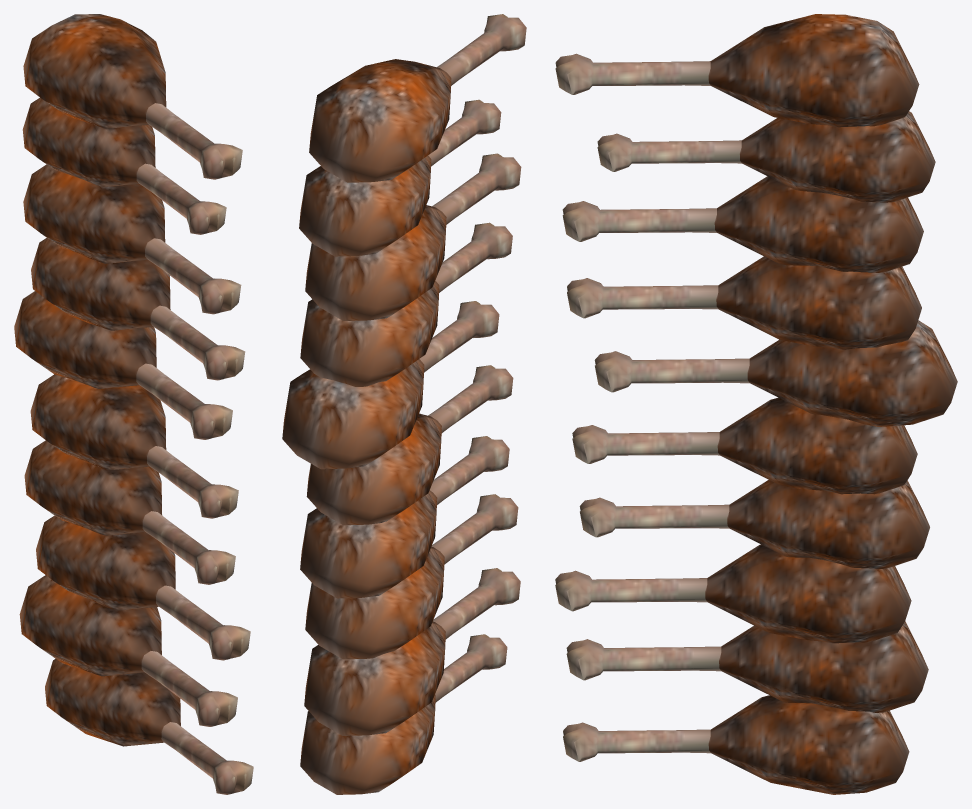
Rendered from MeatStack_CookedChicken.glb.
The picture shows the model from 3 angles, left to right: view 1: azimuth 30°, elevation 25°; view 2: azimuth 150°, elevation 25°; view 3: azimuth 270°, elevation 25°; orthographic projection. The views are drawn at different scales.
Parts seen in each view (by area): view 1: MeatStack_CookedChicken; view 2: MeatStack_CookedChicken; view 3: MeatStack_CookedChicken.
Boxes of the visible parts, x1,y1,x2,y2 form: MeatStack_CookedChicken: [14, 14, 253, 794]; MeatStack_CookedChicken: [282, 14, 526, 794]; MeatStack_CookedChicken: [555, 14, 957, 794].
Size of the model in its own units: 0.2071 by 1.14 by 0.5518.
1 material, 1 textured.
